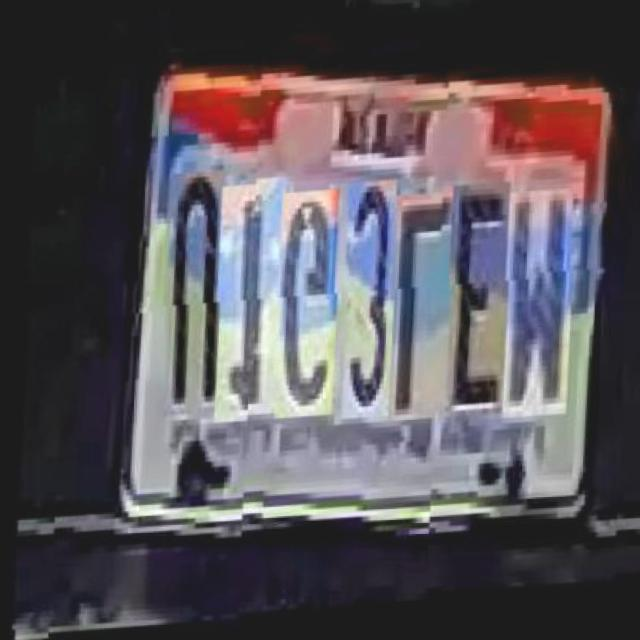1: (203, 186, 283, 427)
3: (330, 190, 393, 430)
e: (435, 201, 506, 435)
g: (264, 200, 335, 428)
l: (378, 204, 457, 434)
m: (491, 208, 570, 438)
u: (153, 173, 222, 418)
